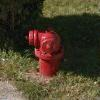Hydrant: (23, 18, 70, 78)
